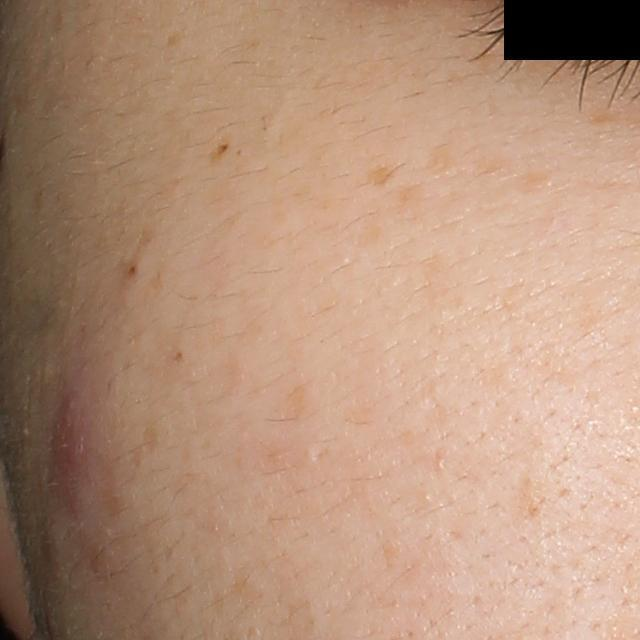melasma: (416, 143, 465, 181), (515, 165, 560, 197), (395, 183, 429, 222), (360, 163, 405, 192), (209, 137, 237, 161)
papule: (43, 383, 100, 508)
